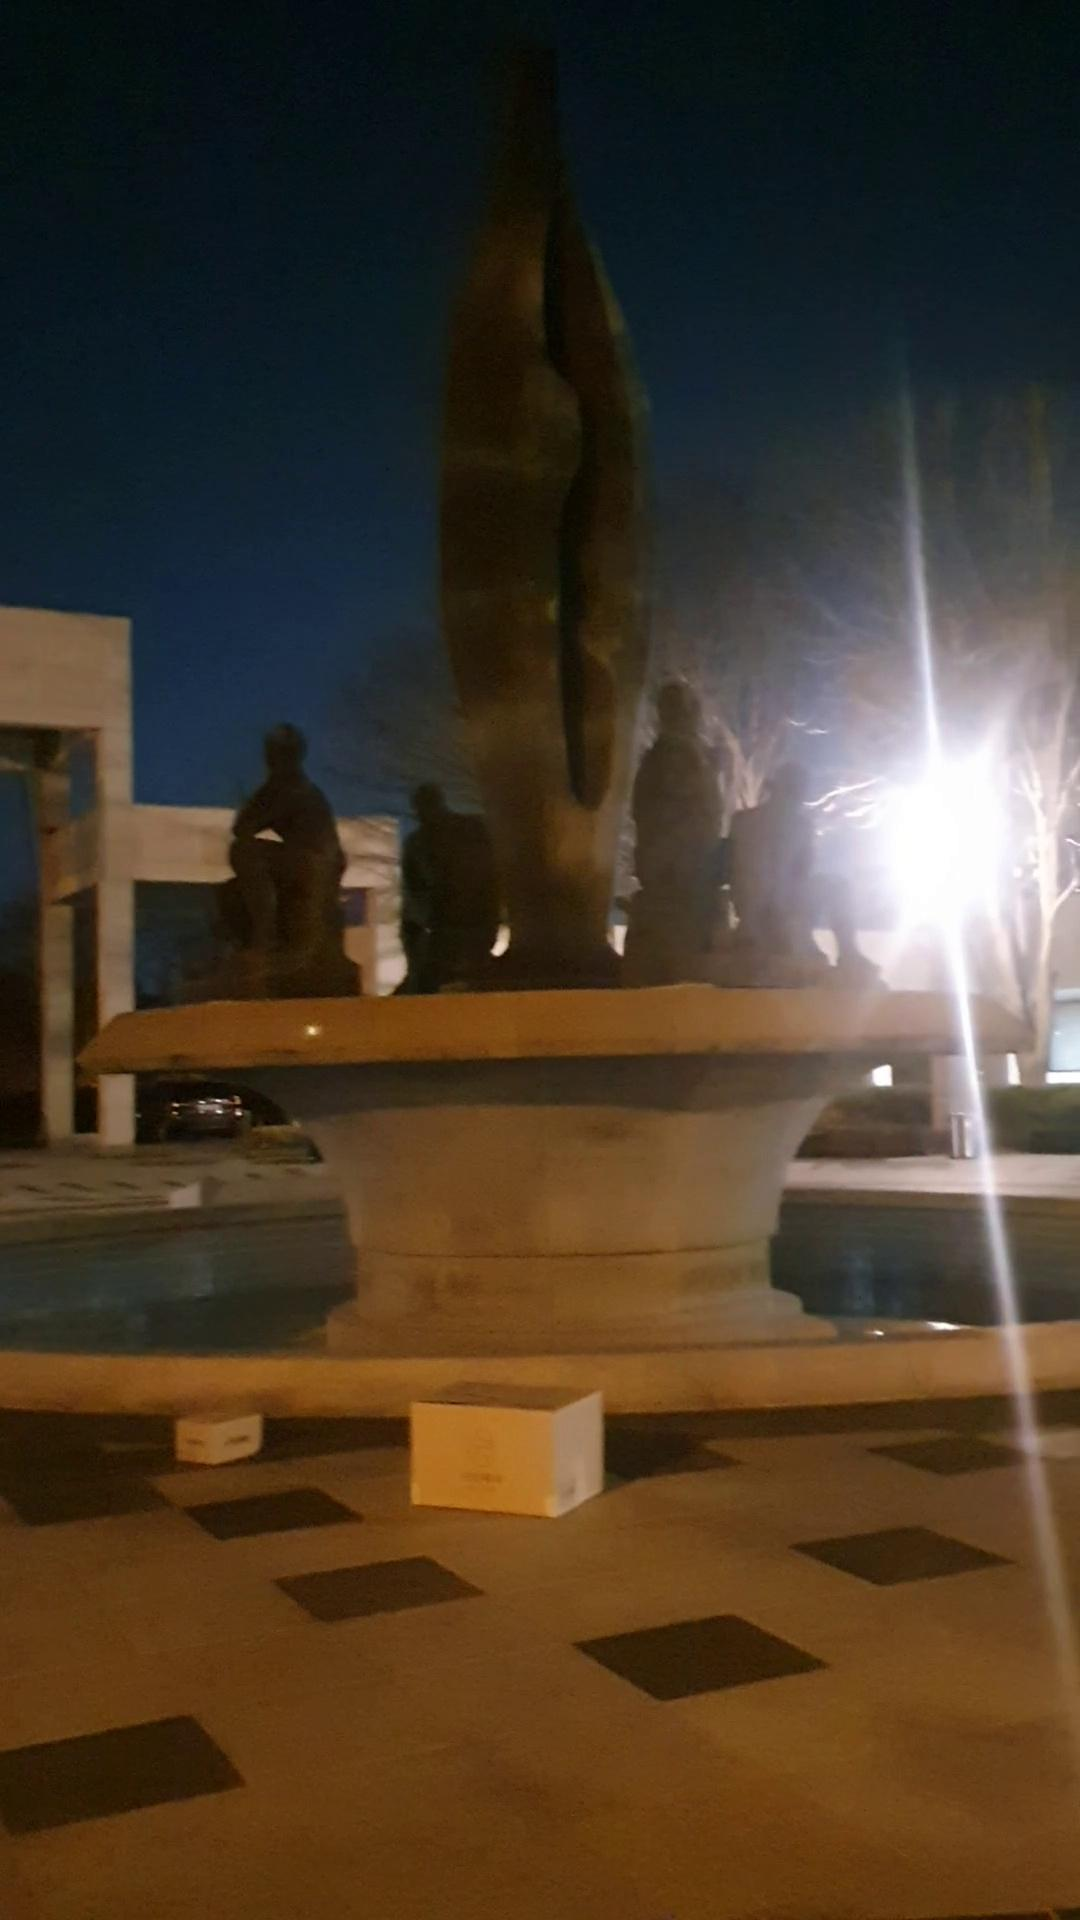Box: (418, 1360, 597, 1522), (148, 1393, 266, 1484)
